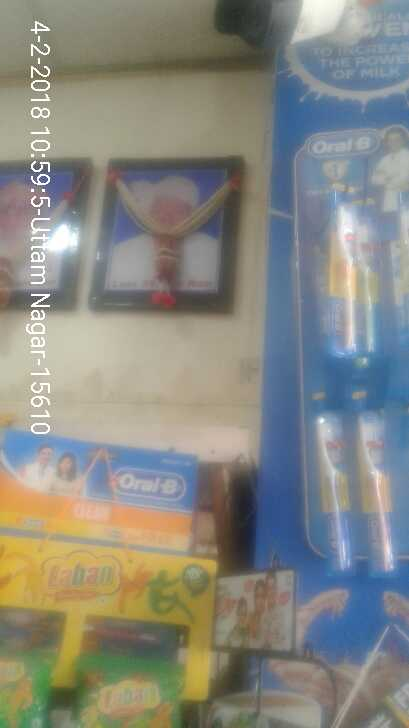oralb: (322, 189, 382, 360), (350, 409, 409, 581), (308, 410, 355, 578)
